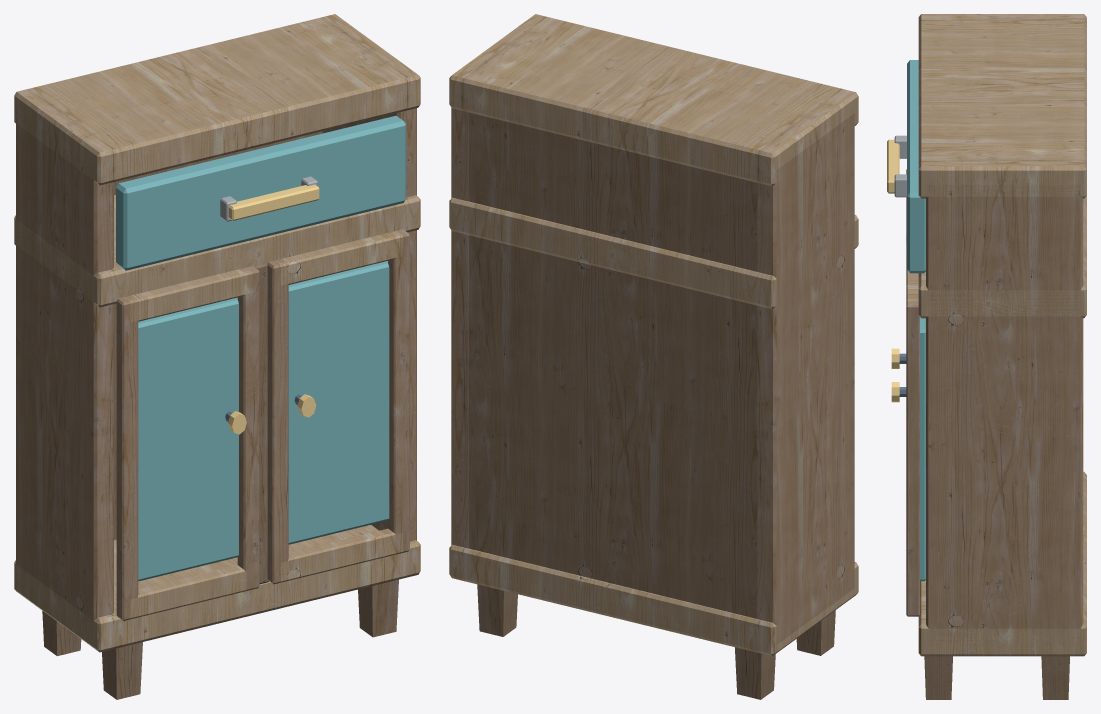
File: build_cupboard.glb
3 renders of one model, left to right at view 1: azimuth 30°, elevation 25°; view 2: azimuth 150°, elevation 25°; view 3: azimuth 270°, elevation 25°, orthographic. The views are drawn at different scales.
Parts seen in each view (by area): view 1: build_cupboard; view 2: build_cupboard; view 3: build_cupboard.
Part boxes in pixels (x1,y1,x2,y2): build_cupboard: (14, 14, 420, 699); build_cupboard: (449, 14, 858, 699); build_cupboard: (887, 14, 1086, 699).
Bounding box in the file's own units: 1.1 × 1.8 × 0.6.
7 materials, 4 textured.
